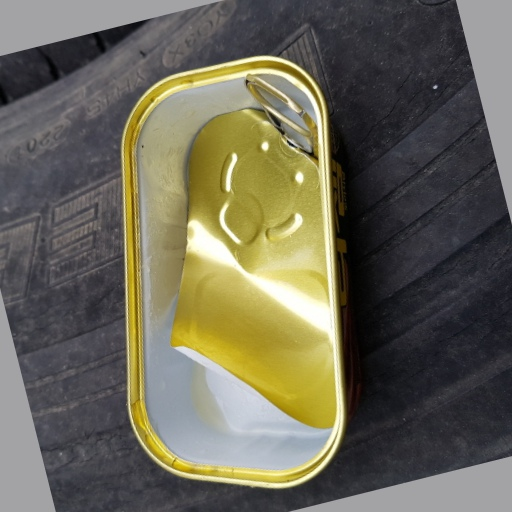Metal_2: (121, 52, 354, 490)
